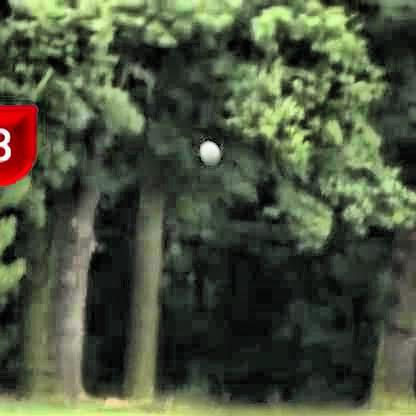golfball: (196, 134, 218, 159)
